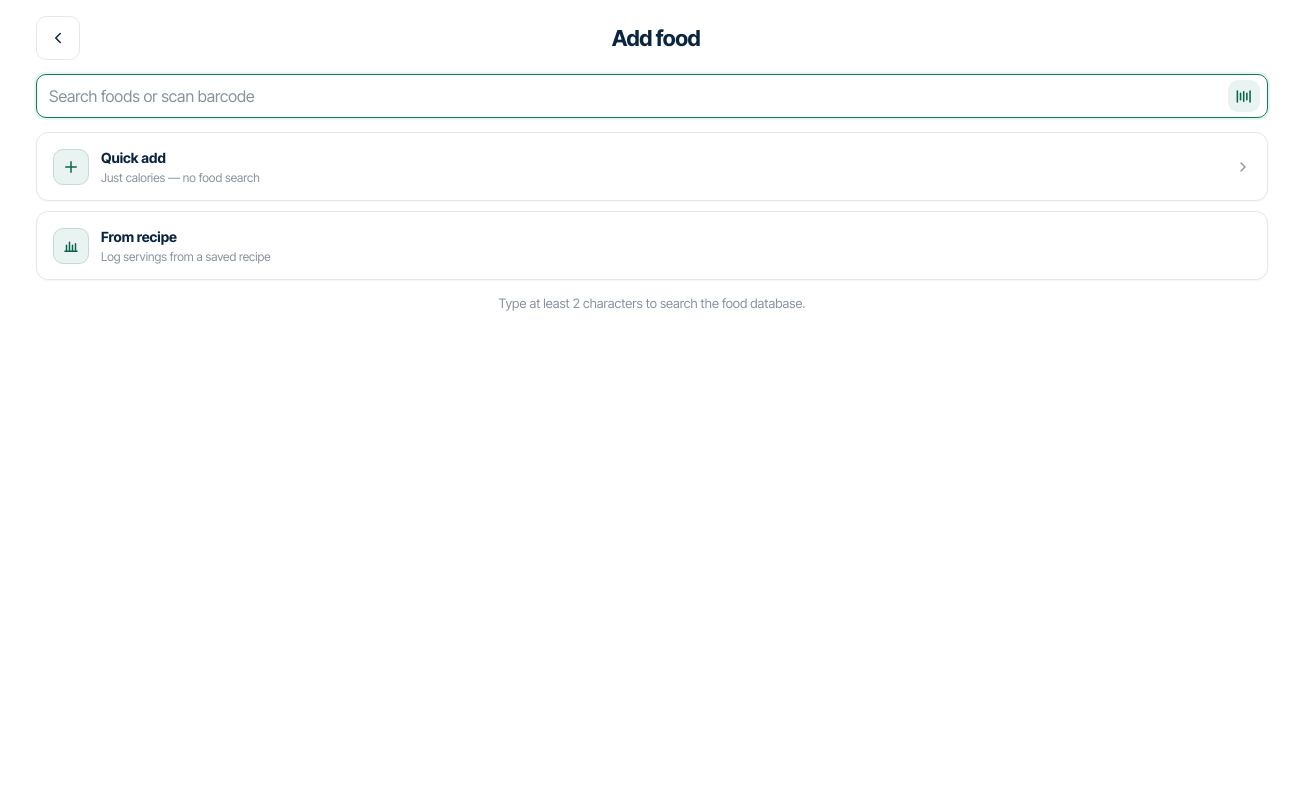
it: AddFood — food source attribution › does not dress the credit as a link when there is nothing to link to
Type "hummus" into the field with placeholder "Search foods or scan barcode". click: [652, 96]
box: [36,74,1268,118]
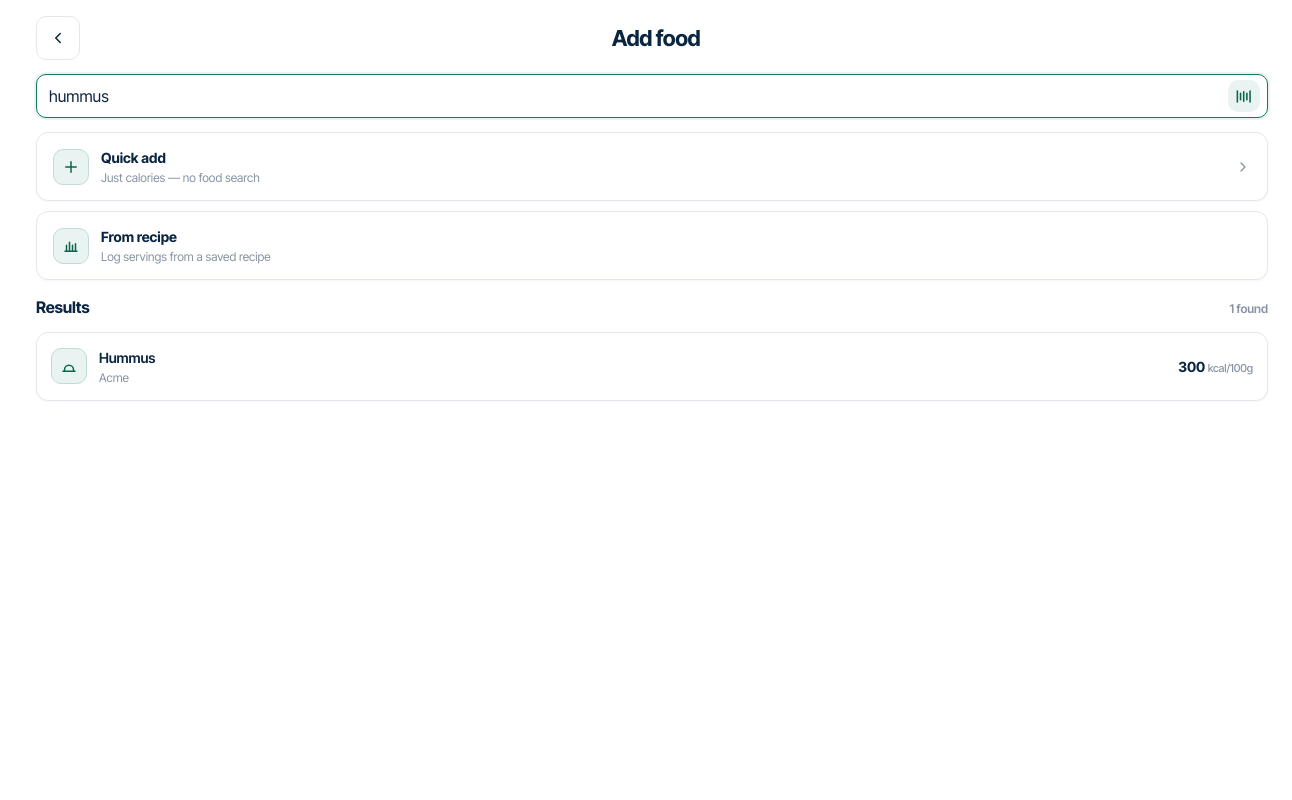
Click the text "Hummus". click: [127, 357]
box: [99,349,155,366]
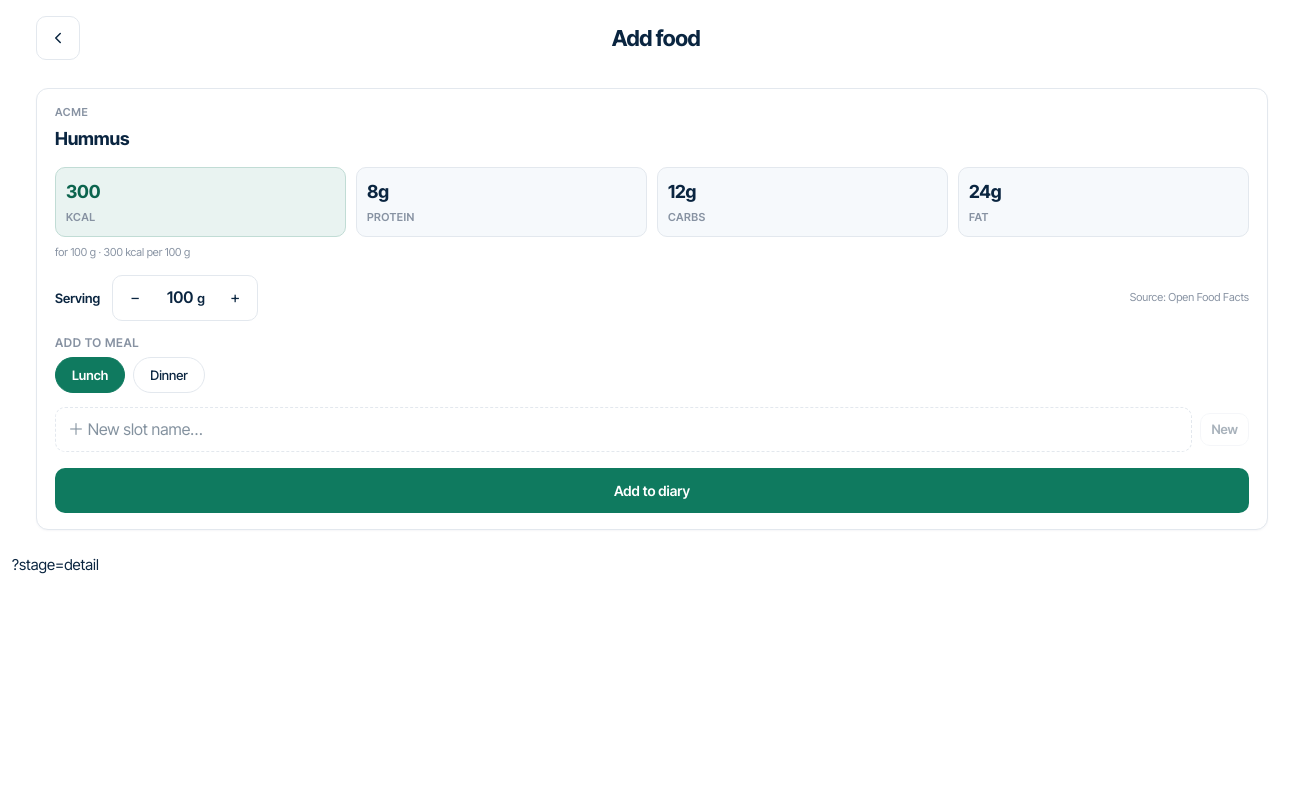
Expected: the text "Add to meal" is shown, [55,335,139,350]
